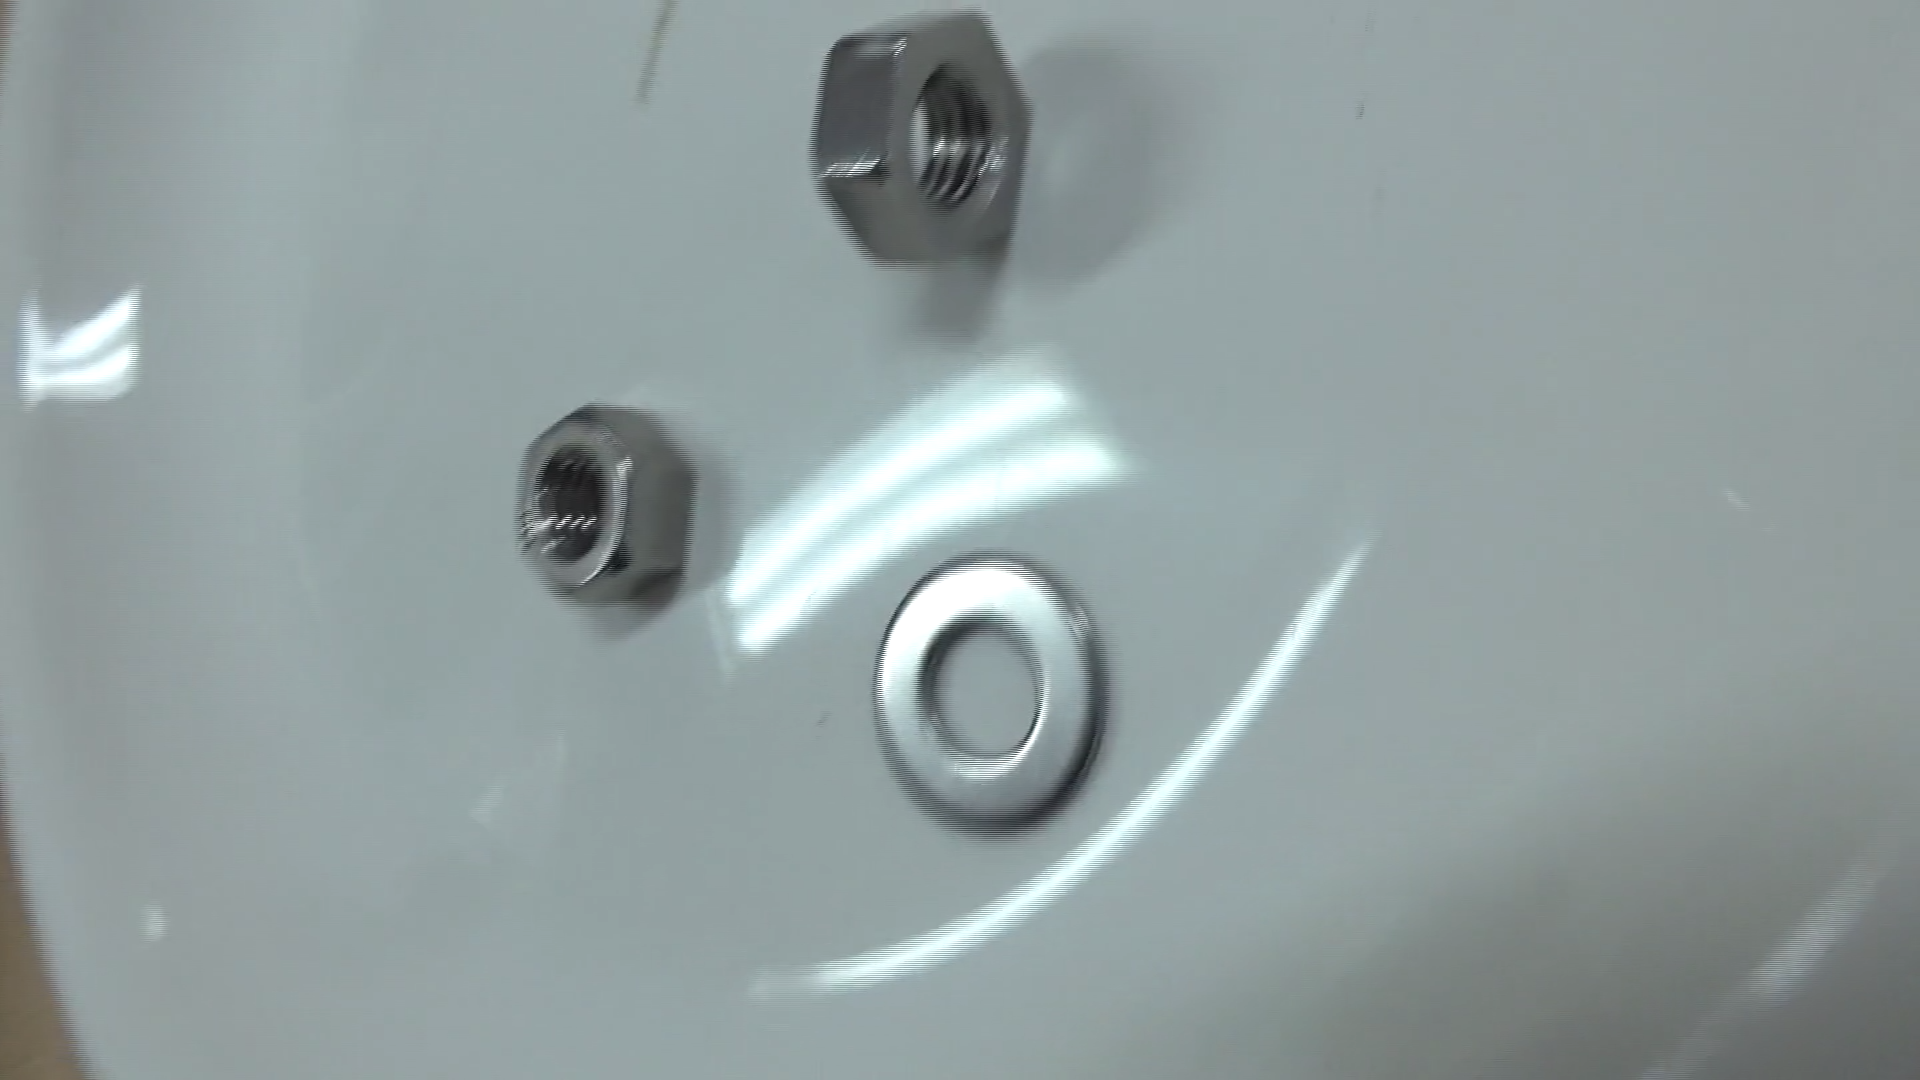nut: (800, 0, 1062, 284), (476, 376, 721, 642)
washer: (840, 514, 1142, 855)
